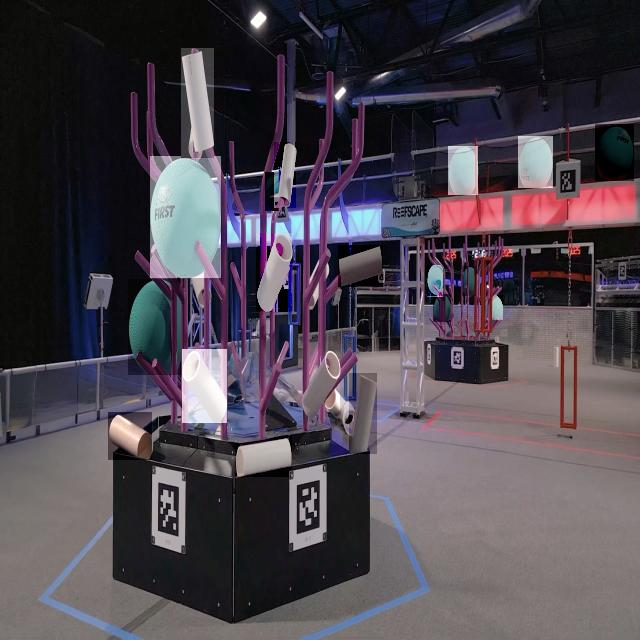Algae: (150, 156, 221, 278), (128, 279, 184, 375), (595, 124, 634, 181), (518, 136, 553, 188), (448, 146, 478, 195), (266, 172, 280, 211), (427, 266, 443, 298), (433, 294, 451, 322), (462, 266, 476, 296), (492, 295, 503, 320)
Coral: (181, 48, 214, 158), (182, 349, 227, 423), (256, 233, 292, 312), (302, 349, 340, 418), (235, 436, 292, 477), (349, 373, 377, 454), (109, 412, 152, 460), (338, 245, 383, 287), (274, 142, 296, 208)
